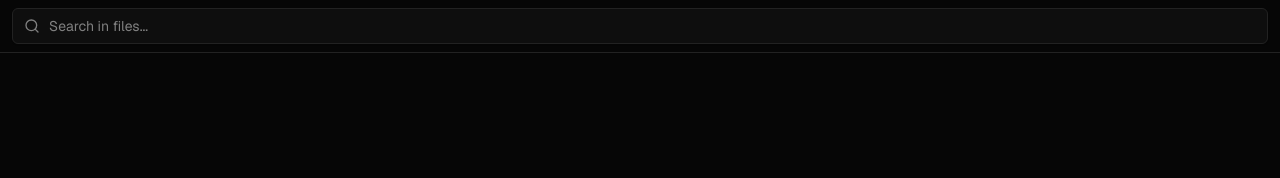
Test: ContentSearch › Search results › should display search results with file paths and match counts
The width and height of the screenshot is (1280, 178).
Type to trigger search
In the field with placeholder "Search in files...": (640, 26) 12,8 -> 1268,44, type "import"
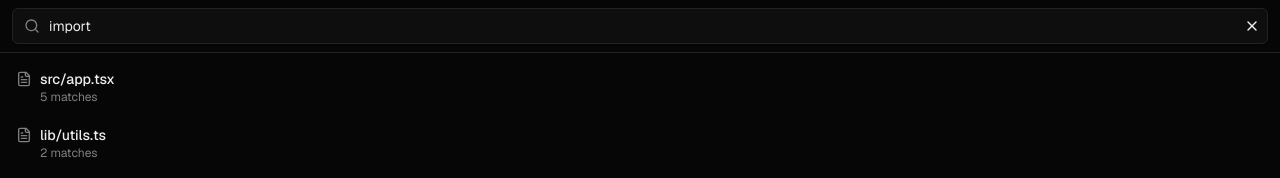
Result: the text "src/app.tsx" is shown at 40,70 -> 115,88
Result: the text "5 matches" is shown at 40,89 -> 98,105
Result: the text "lib/utils.ts" is shown at 40,126 -> 106,144
